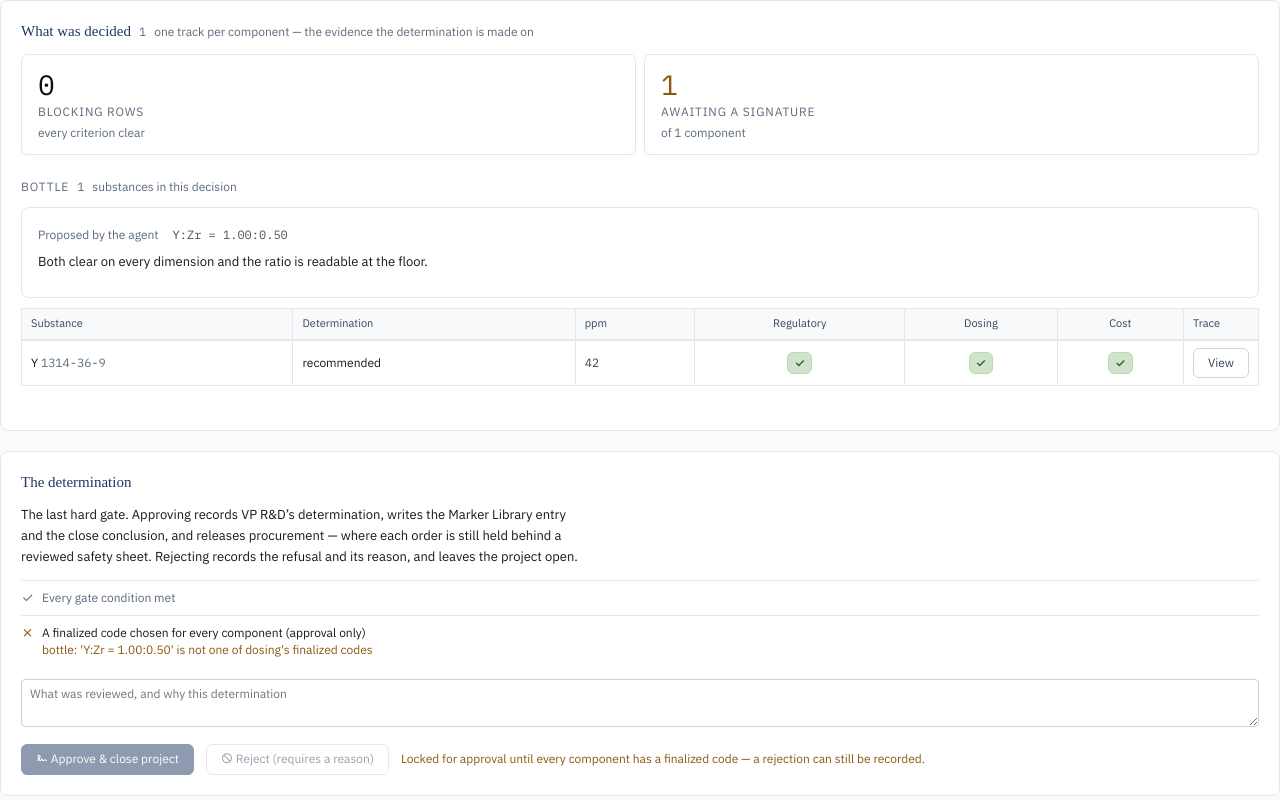
Test: Decision — arming the gate › locks approval but not rejection when a component has no finalized code
Expected: the text "1314-36-9" is shown, x1=41 y1=355 x2=106 y2=370
Type "The codes are not final." into the text box named "determination note".
click(640, 703); type("The codes are not final.")  # box x1=21 y1=679 x2=1259 y2=726
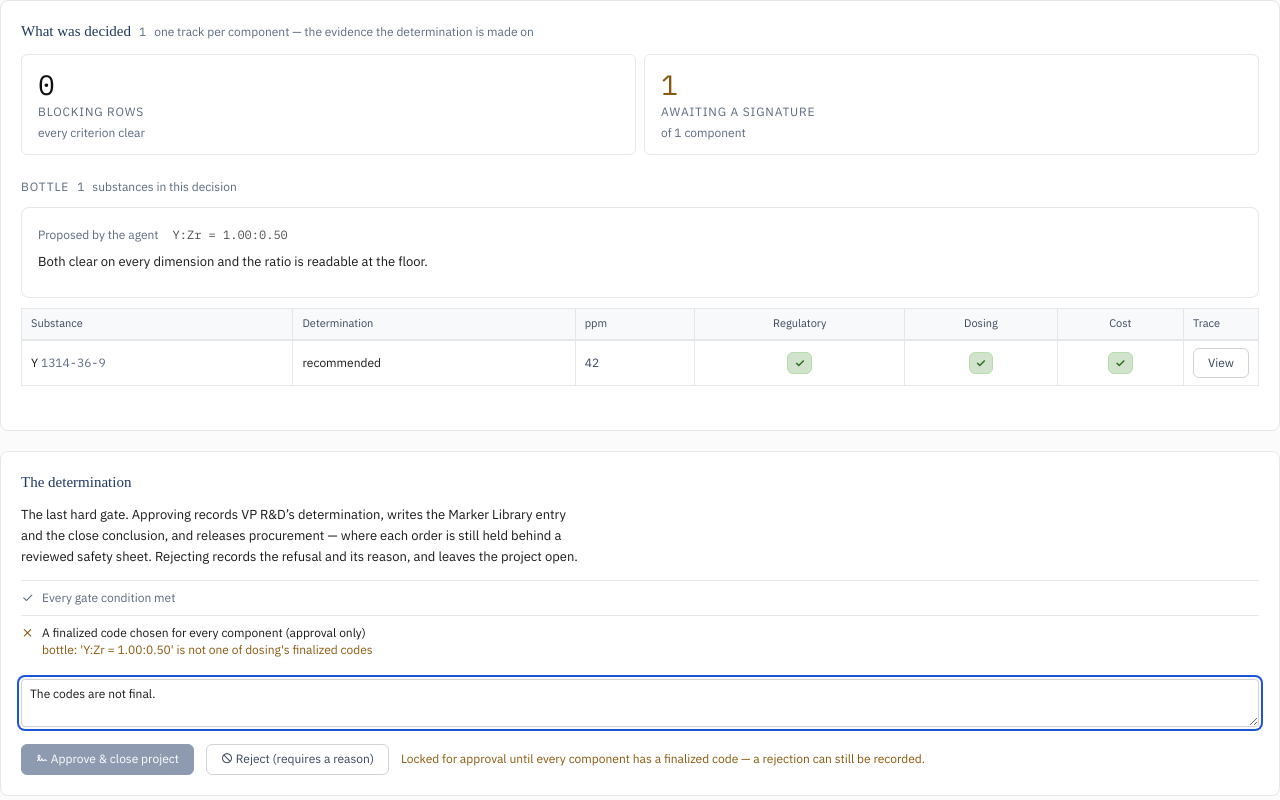
Expected: the button "Approve & close project" is disabled, x1=21 y1=744 x2=194 y2=774
Expected: the button "Reject (requires a reason)" is enabled, x1=206 y1=744 x2=389 y2=774
